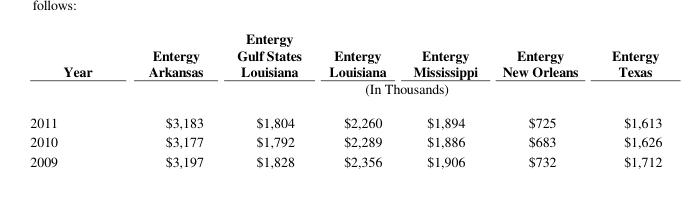table: (29, 28, 661, 169)
table column: (489, 28, 594, 169), (119, 28, 219, 169), (219, 28, 314, 169), (29, 28, 119, 169), (399, 28, 489, 169), (314, 28, 399, 169), (594, 28, 661, 169)
table column header: (29, 28, 661, 104)
table row: (29, 28, 661, 80), (29, 104, 661, 131), (29, 80, 661, 104), (29, 131, 661, 150), (29, 150, 661, 169)
table spanning cell: (119, 80, 661, 104), (29, 28, 119, 104)
